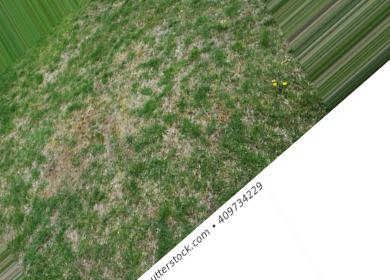patch: (130, 43, 198, 158), (59, 92, 141, 172), (37, 147, 90, 187)
